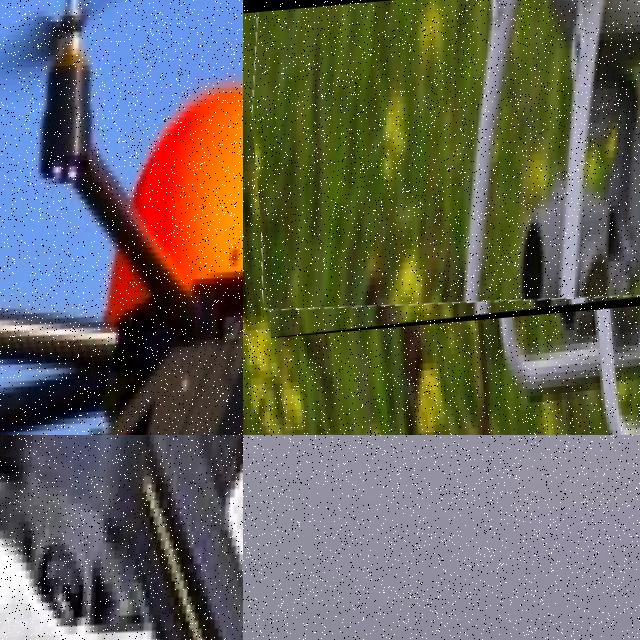drone: (243, 0, 640, 337), (0, 0, 243, 435), (0, 435, 243, 640)
